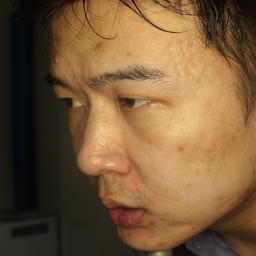ance: (220, 128, 224, 140)
